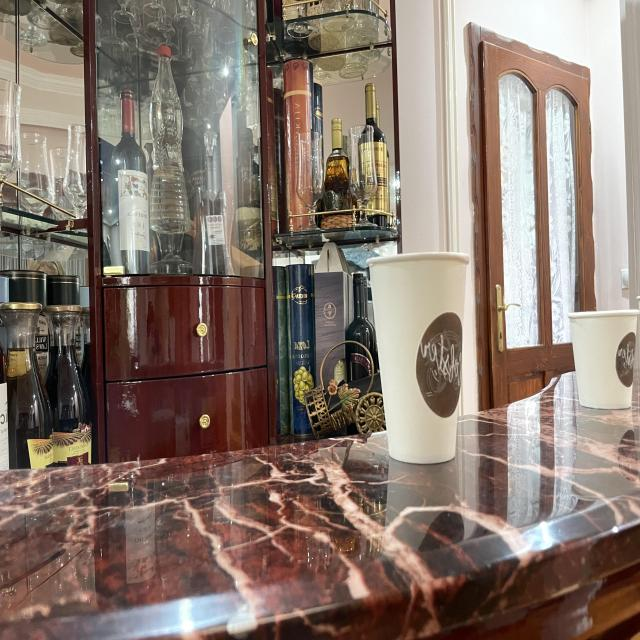big: (365, 248, 473, 465)
small: (565, 301, 640, 412)
